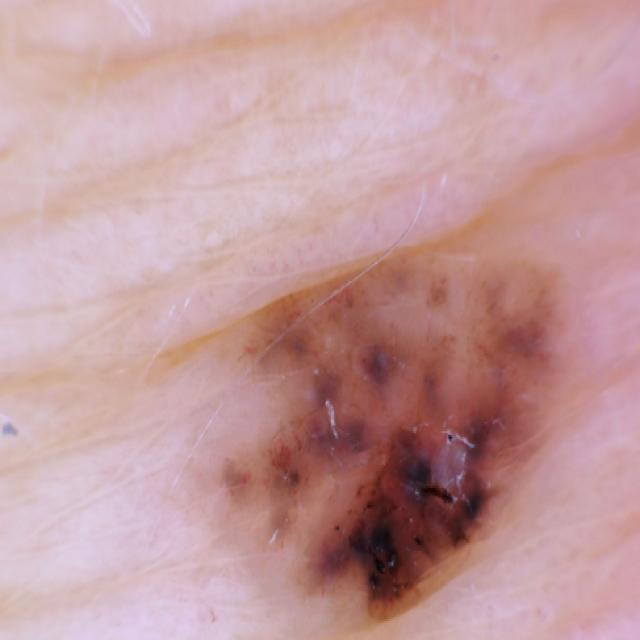Carcinoma: (148, 246, 610, 636)
